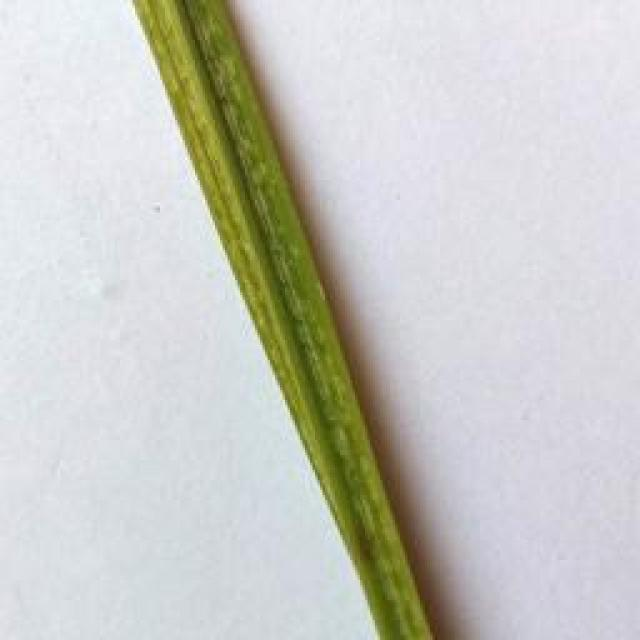Healthy-Plant: (128, 0, 436, 640)
